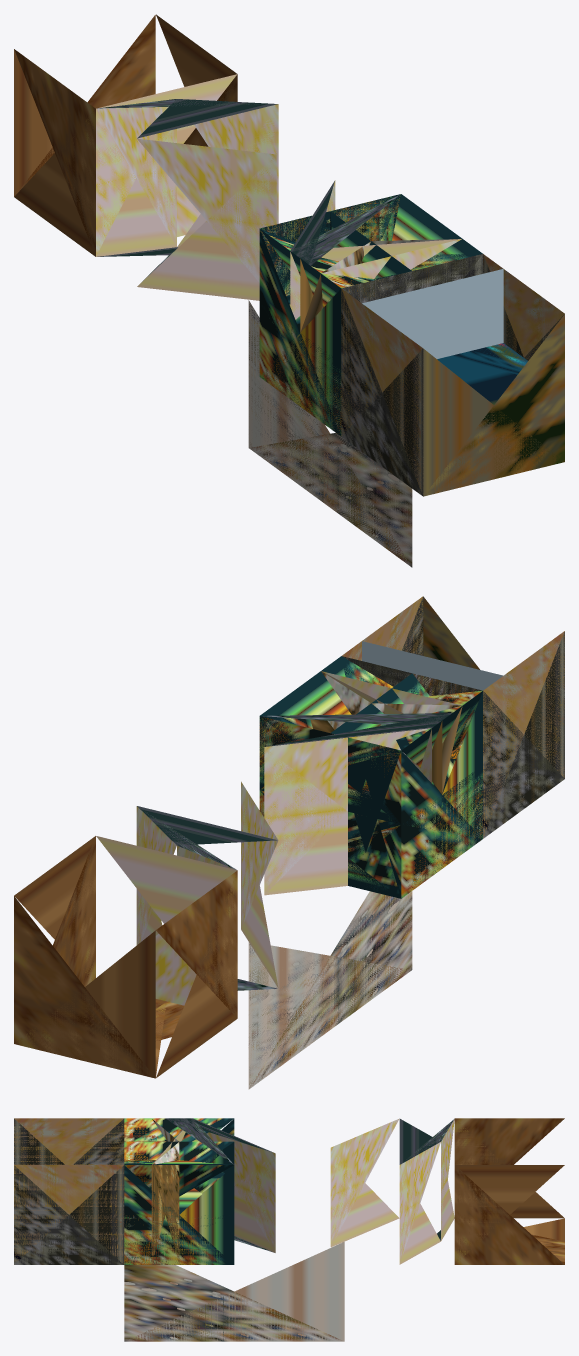
File: town_geometry_type_17.obj
The picture shows the model from 3 angles, top to bottom: view 1: azimuth 30°, elevation 25°; view 2: azimuth 150°, elevation 25°; view 3: azimuth 270°, elevation 25°; orthographic projection. The views are drawn at different scales.
Parts seen in each view (by area): view 1: face_list_065, face_list_037, face_list_051, face_list_036, face_list_000, face_list_063, face_list_046, face_list_052, face_list_045, face_list_007, face_list_035, face_list_018 (+15 smaller); view 2: face_list_051, face_list_045, face_list_033, face_list_063, face_list_000, face_list_046, face_list_035, face_list_007, face_list_042, face_list_052, face_list_059, face_list_036 (+17 smaller); view 3: face_list_051, face_list_042, face_list_003, face_list_062, face_list_036, face_list_033, face_list_037, face_list_005, face_list_046, face_list_007, face_list_000, face_list_044 (+6 smaller).
Part boxes in pixels (x1,y1,x2,y2): face_list_065: [423, 314, 564, 496]; face_list_037: [137, 138, 276, 300]; face_list_051: [248, 300, 412, 567]; face_list_036: [96, 99, 278, 282]; face_list_000: [341, 254, 482, 496]; face_list_063: [259, 212, 341, 436]; face_list_046: [14, 49, 95, 256]; face_list_052: [248, 278, 411, 562]; face_list_045: [14, 15, 155, 196]; face_list_007: [341, 288, 423, 493]; face_list_035: [96, 74, 237, 255]; face_list_018: [362, 269, 502, 357]; face_list_051: [155, 891, 412, 1089]; face_list_045: [14, 896, 155, 1078]; face_list_033: [263, 713, 451, 895]; face_list_063: [334, 691, 482, 898]; face_list_000: [342, 632, 564, 838]; face_list_046: [156, 870, 237, 1077]; face_list_035: [96, 836, 236, 1005]; face_list_007: [483, 631, 564, 835]; face_list_042: [14, 836, 95, 986]; face_list_052: [155, 673, 479, 1087]; face_list_059: [260, 656, 401, 898]; face_list_036: [136, 806, 277, 990]; face_list_051: [124, 1218, 564, 1341]; face_list_042: [454, 1165, 564, 1264]; face_list_003: [14, 1165, 124, 1264]; face_list_062: [124, 1142, 234, 1264]; face_list_036: [399, 1119, 454, 1264]; face_list_033: [166, 1118, 275, 1252]; face_list_037: [330, 1118, 399, 1247]; face_list_005: [14, 1165, 124, 1262]; face_list_046: [454, 1118, 564, 1218]; face_list_007: [14, 1118, 124, 1164]; face_list_000: [14, 1119, 124, 1164]; face_list_044: [151, 1165, 179, 1264].
Bounding box in the file's own units: 64 × 128 × 320.
16 materials, 16 textured.
